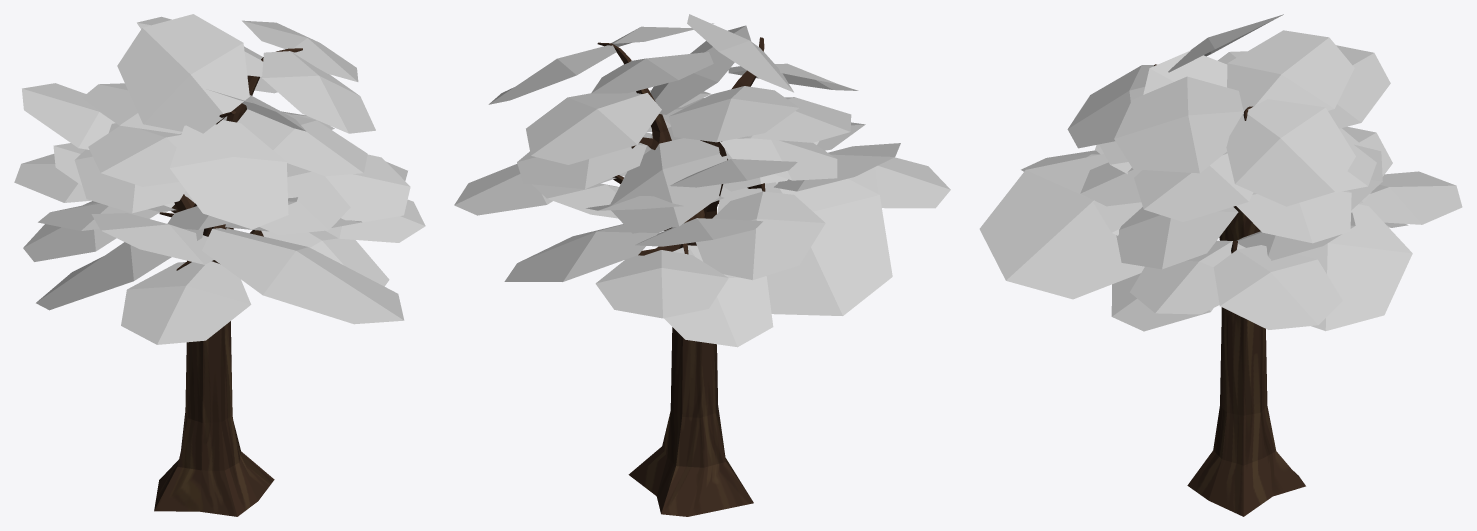
Rendered from Baum.fbx.
3 views of the same model, side by side, from view 1: azimuth 30°, elevation 25°; view 2: azimuth 150°, elevation 25°; view 3: azimuth 270°, elevation 25° (orthographic). The views are drawn at different scales.
Parts seen in each view (by area): view 1: polySurface5, polySurface1; view 2: polySurface5, polySurface1; view 3: polySurface5, polySurface1.
Boxes of the visible parts, x1=… form: polySurface5: x1=14, y1=14, x2=425, y2=344; polySurface1: x1=154, y1=48, x2=302, y2=516; polySurface5: x1=454, y1=14, x2=950, y2=347; polySurface1: x1=597, y1=37, x2=765, y2=516; polySurface5: x1=979, y1=14, x2=1462, y2=331; polySurface1: x1=1154, y1=64, x2=1305, y2=516.
Bounding box in the file's own units: 16.14 × 18.73 × 17.79.
